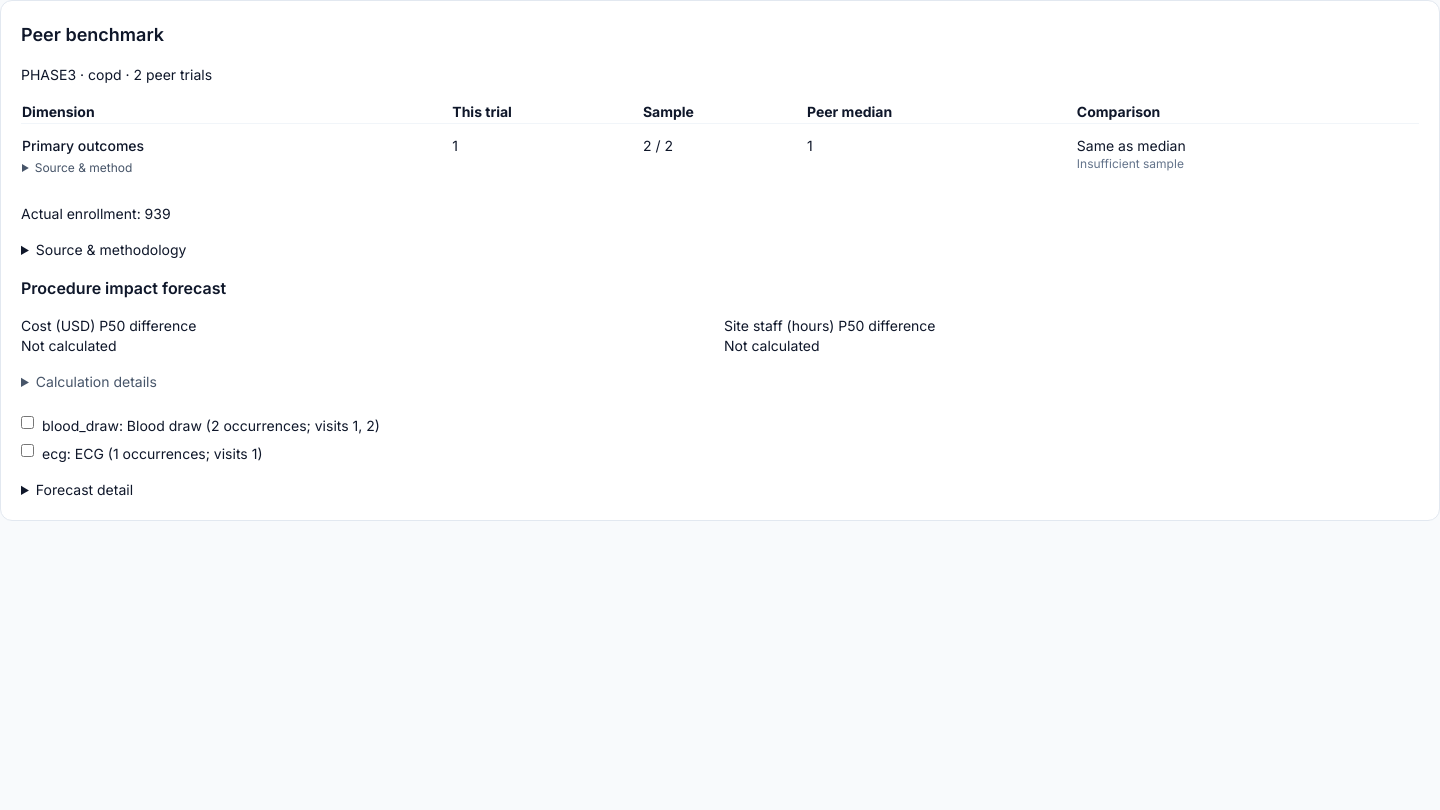
Test case: PeerMirror › does not infer a missing P50 delta (null) from marginal medians
This screenshot has width=1440, height=810.
What coordinates should you click on to do the following:
click the heading "Forecast detail"
I would click on:
 (84, 490)
Its box is [36, 481, 133, 498].
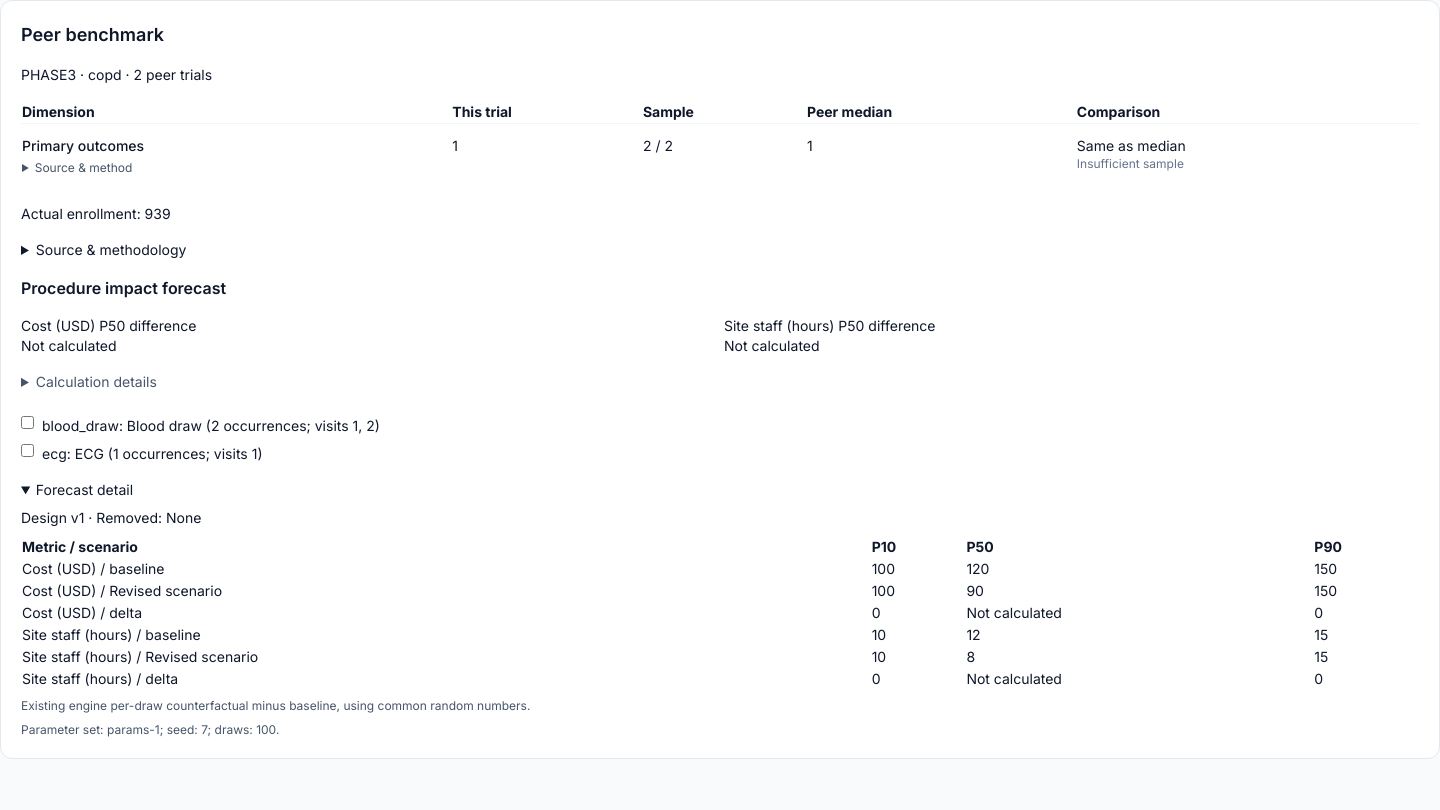
Expected: the text with test id "cost_usd-p50-difference" reads "Not calculated", [21, 337, 117, 354]
Expected: the 1st cell "Not calculated" is shown, [965, 602, 1313, 624]
Expected: the 2nd cell "Not calculated" is shown, [965, 668, 1313, 690]
